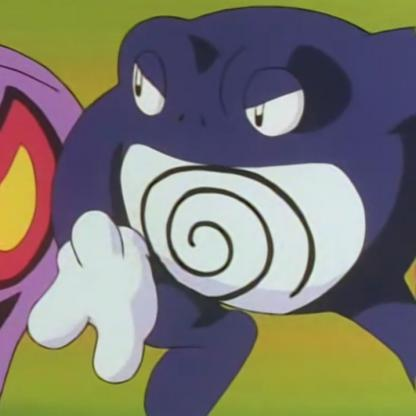Poliwrath: (55, 9, 416, 416)
